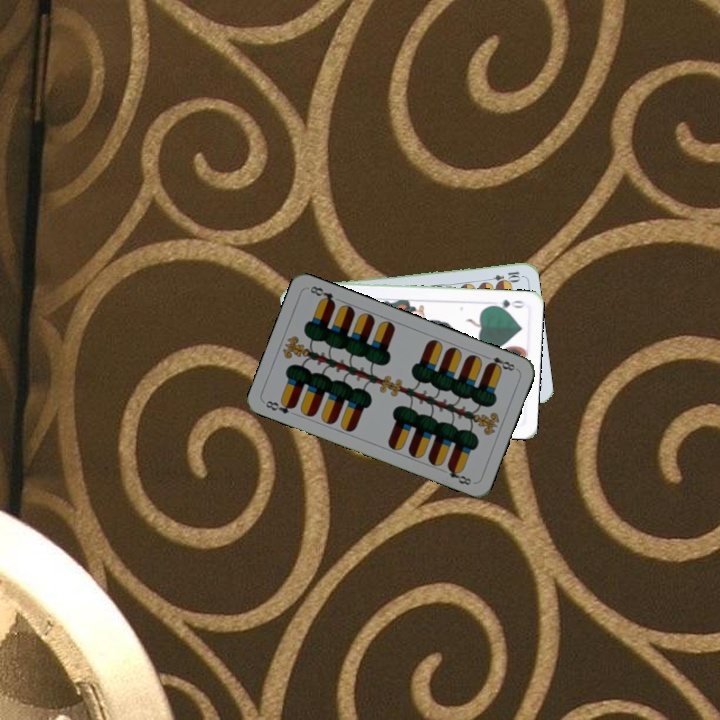E10: (482, 267, 523, 285)
E8: (480, 351, 519, 374), (261, 396, 298, 416)
GO: (487, 295, 527, 312)
